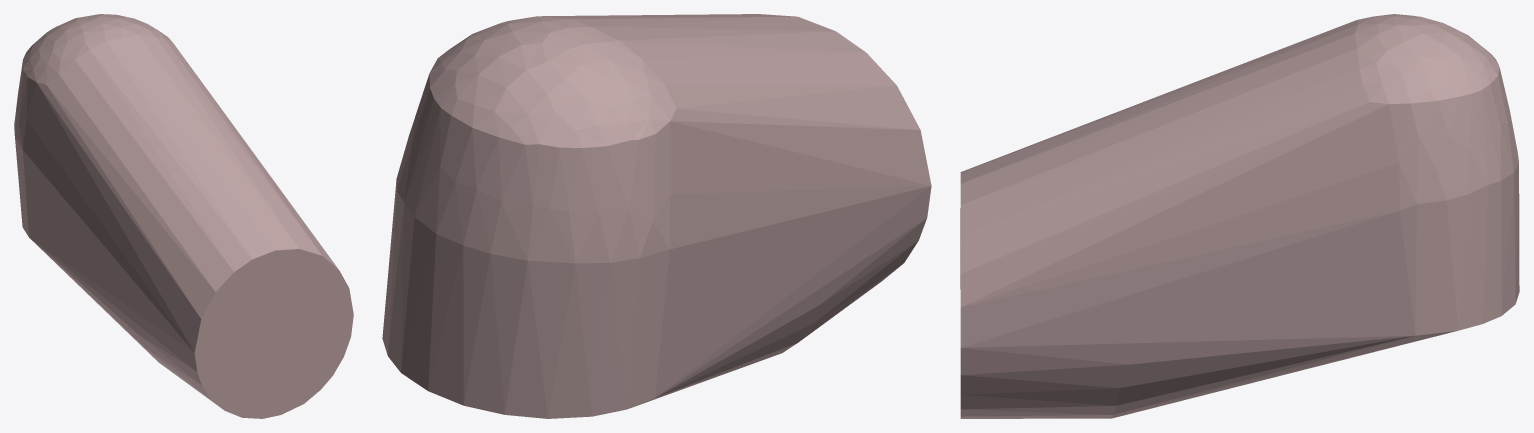
Rendered from dualpanda_Panda_leftArm_link2_respondable_coll_1.dae.
3 views of the same model, side by side, from view 1: azimuth 30°, elevation 25°; view 2: azimuth 150°, elevation 25°; view 3: azimuth 270°, elevation 25° (orthographic). The views are drawn at different scales.
Visible parts, largest first — view 1: node; view 2: node; view 3: node.
Boxes of the visible parts, <box> form: node: <box>14,14,353,418</box>; node: <box>382,14,931,418</box>; node: <box>960,14,1519,418</box>.
Size of the model in its own units: 0.1152 by 0.1843 by 0.2492.
